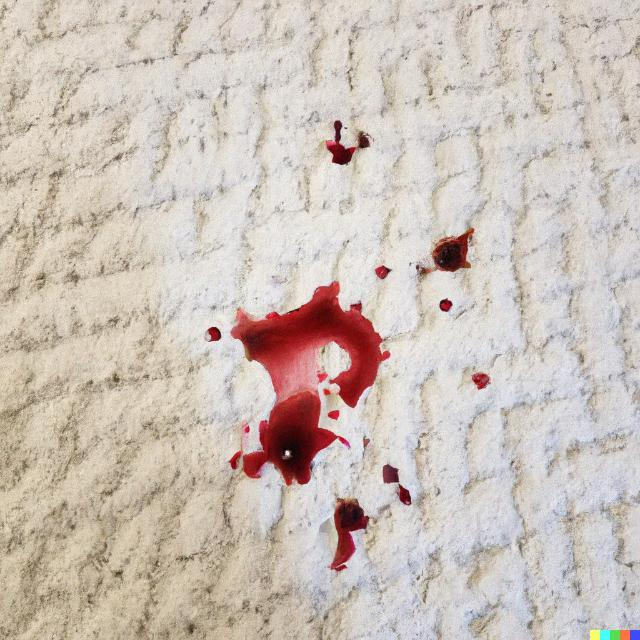blood: (230, 279, 391, 486), (330, 497, 371, 571), (431, 227, 474, 272), (325, 120, 356, 166), (395, 482, 411, 506), (382, 463, 399, 484), (356, 130, 372, 148), (374, 265, 392, 279), (207, 326, 221, 342), (439, 298, 452, 312)
